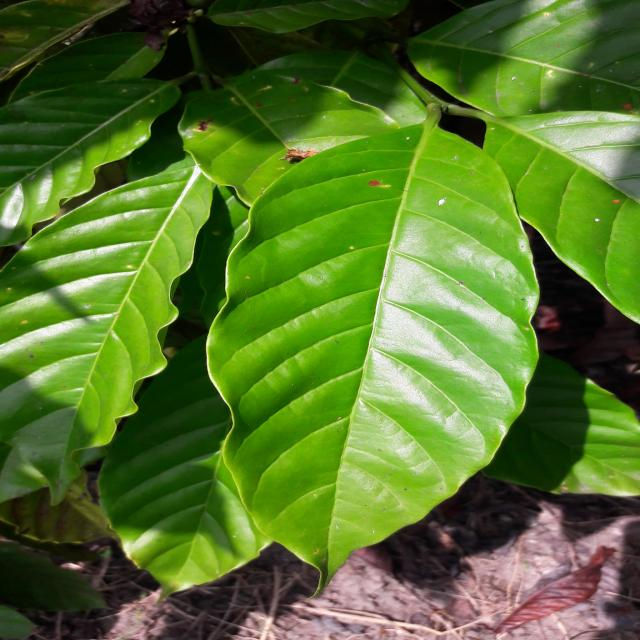Plaga-AranaRoja: (171, 122, 540, 587)
